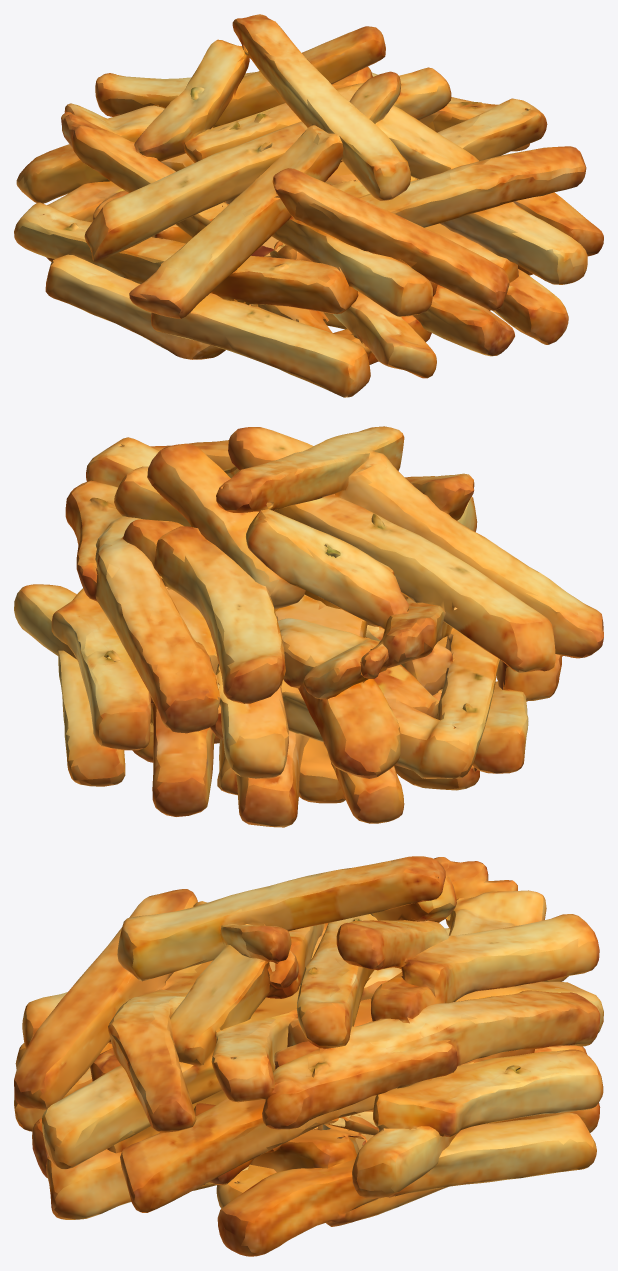
The picture shows the model from 3 angles, top to bottom: view 1: azimuth 30°, elevation 25°; view 2: azimuth 150°, elevation 25°; view 3: azimuth 270°, elevation 25°; orthographic projection. The views are drawn at different scales.
Parts seen in each view (by area): view 1: geometry_0; view 2: geometry_0; view 3: geometry_0.
Part boxes in pixels (x1,y1,x2,y2): geometry_0: (14,14,603,397); geometry_0: (14,426,603,827); geometry_0: (14,856,603,1256).
Size of the model in its own units: 0.1 by 0.0533 by 0.0999.
1 material, 1 textured.
